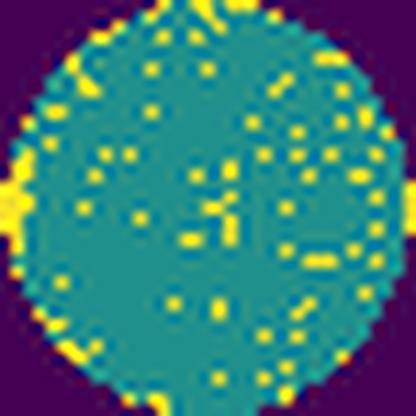Edge-Loc: (0, 146, 41, 265)
